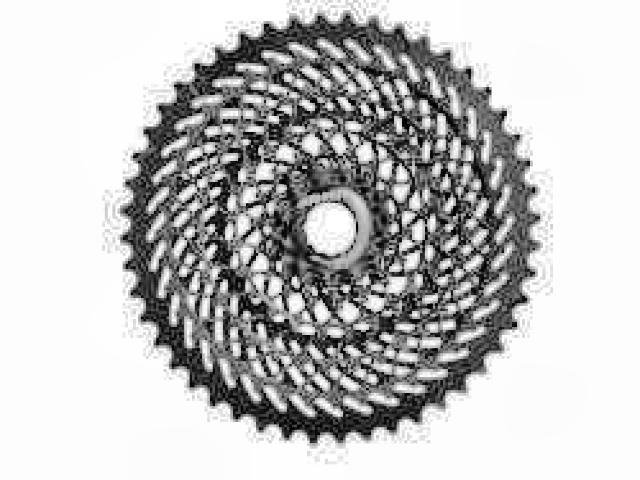cassette: (112, 9, 547, 445)
